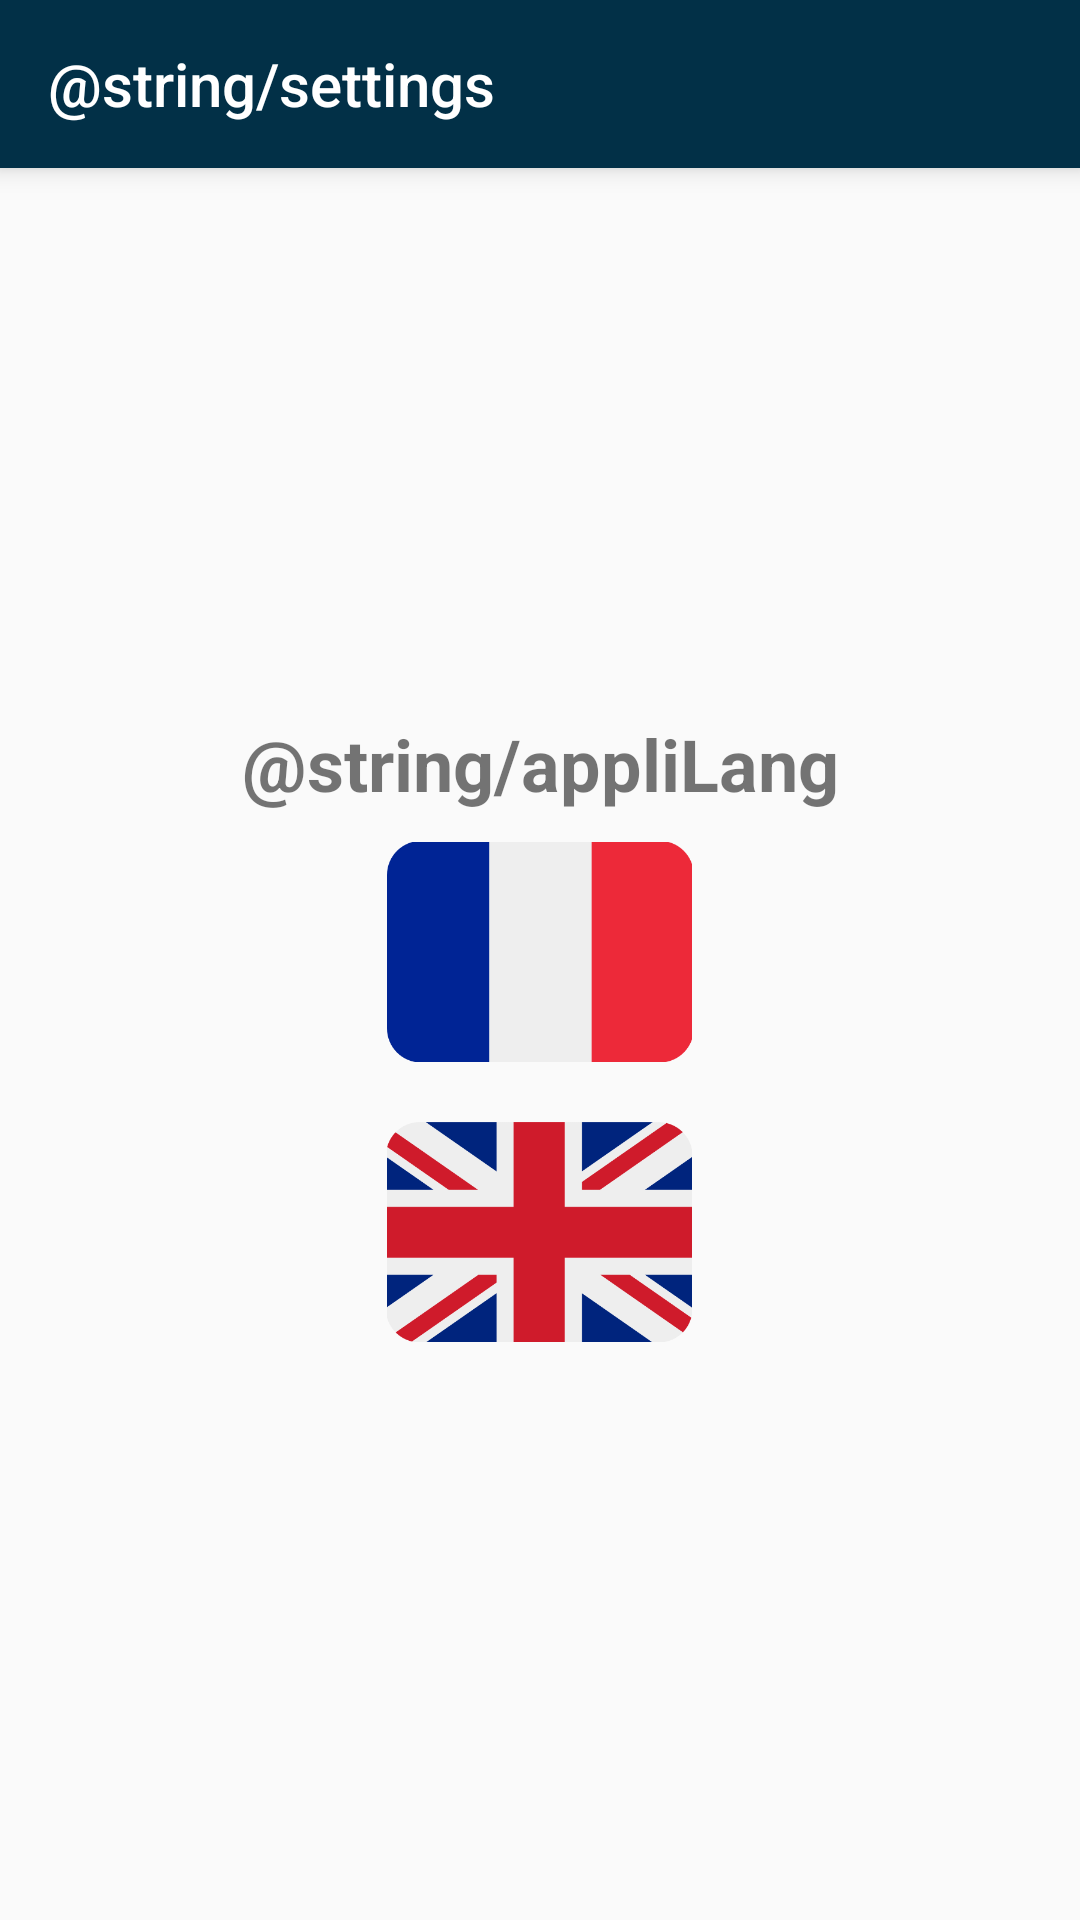

Named icons in this screenshot (1080w x 1920h) and their centers, [x,y]:
drap fr: [539,952]
drap gb: [539,1232]
